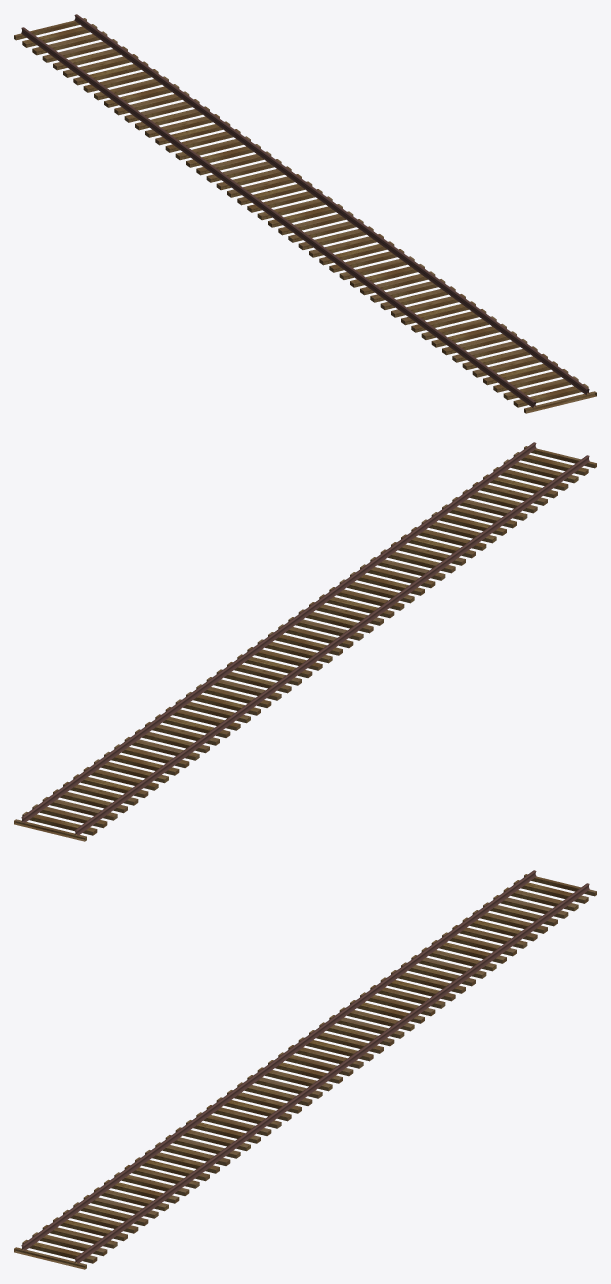
Rendered from rail_003.fbx.
3 views of the same model, one above another, from view 1: azimuth 30°, elevation 25°; view 2: azimuth 150°, elevation 25°; view 3: azimuth 330°, elevation 25° (orthographic).
Parts seen in each view (by area): view 1: main; view 2: main; view 3: main.
Part boxes in pixels (<box>): main: <box>14,14,596,413</box>; main: <box>14,442,596,841</box>; main: <box>14,870,596,1269</box>.
Bounding box in the file's own units: 400 × 50 × 5000.
